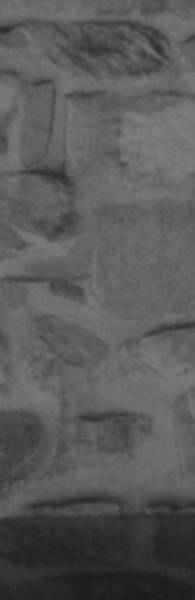water: (0, 514, 195, 600)
